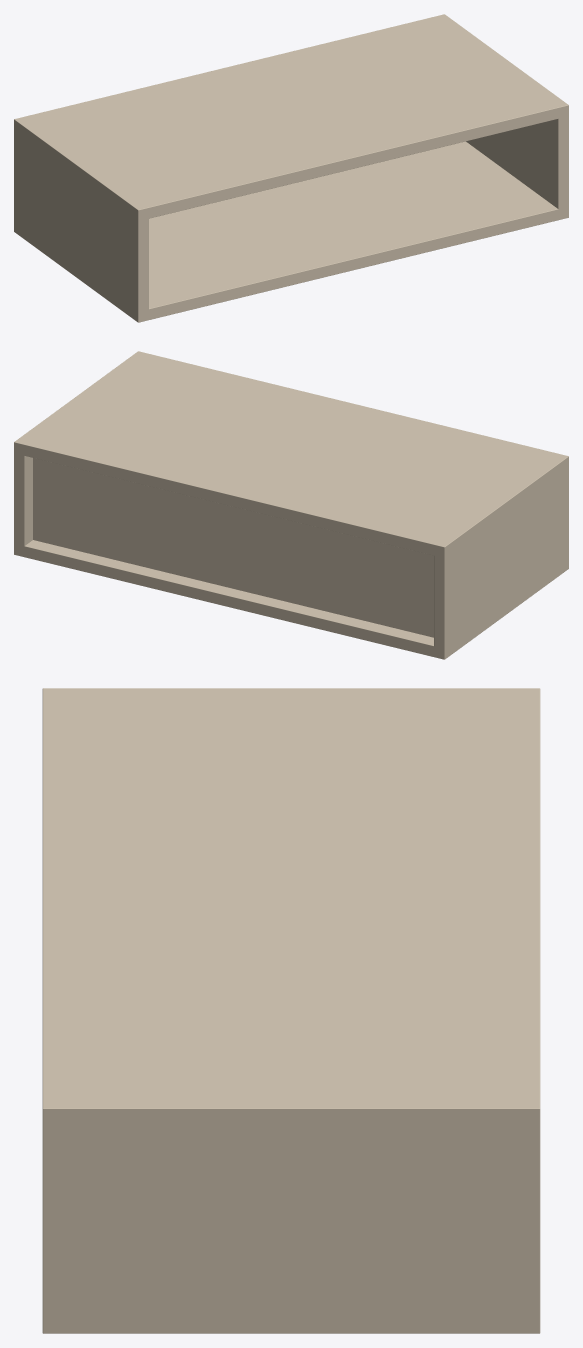
File: MOD-2X05-A-B-AR.glb
The picture shows the model from 3 angles, top to bottom: view 1: azimuth 30°, elevation 25°; view 2: azimuth 150°, elevation 25°; view 3: azimuth 270°, elevation 25°; orthographic projection. The views are drawn at different scales.
Size of the model in its own units: 720 by 180 by 360.
